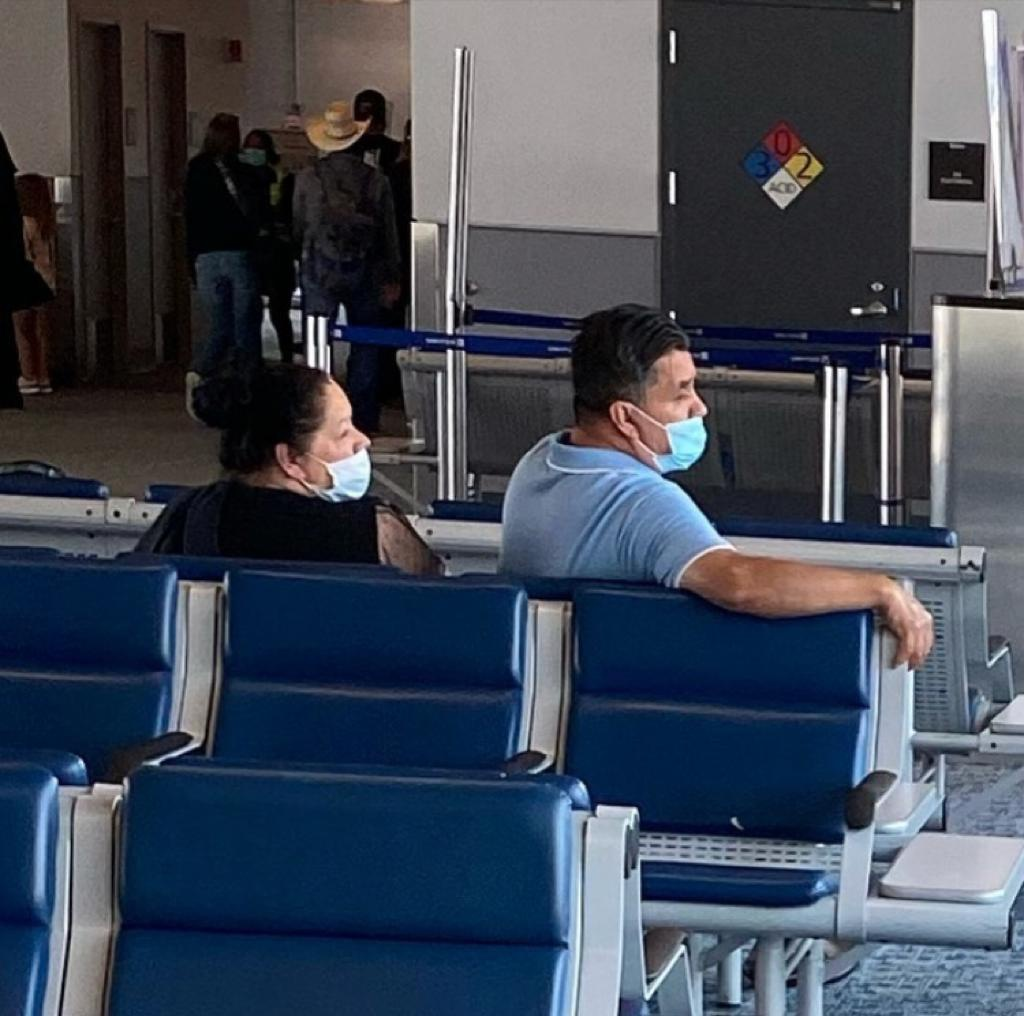nose: (353, 436, 370, 451), (689, 406, 707, 419)
